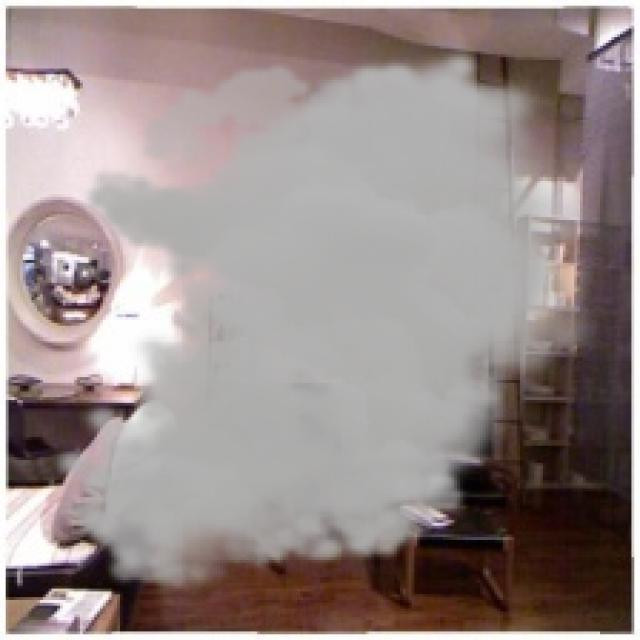Smoke: (49, 46, 612, 592)
